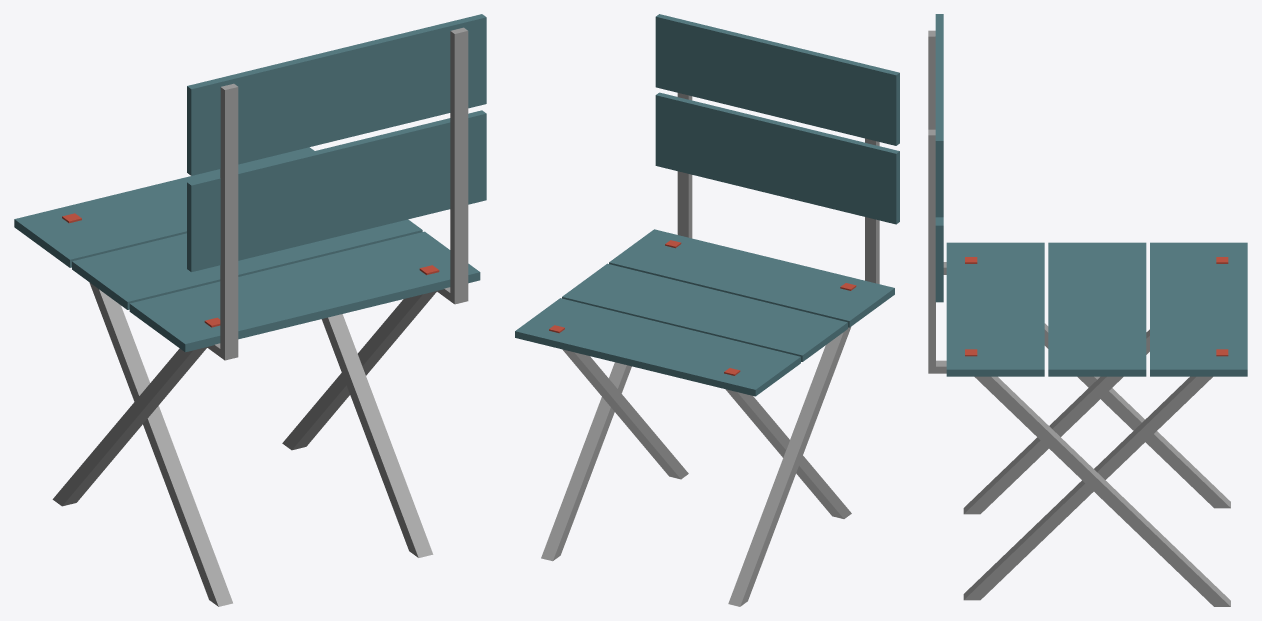
Rendered from SM_Chair_01.fbx.
3 views of the same model, side by side, from view 1: azimuth 30°, elevation 25°; view 2: azimuth 150°, elevation 25°; view 3: azimuth 270°, elevation 25° (orthographic). The views are drawn at different scales.
Parts seen in each view (by area): view 1: SM_Chair_01; view 2: SM_Chair_01; view 3: SM_Chair_01.
Part boxes in pixels (<box>): SM_Chair_01: <box>14,14,486,606</box>; SM_Chair_01: <box>515,14,899,606</box>; SM_Chair_01: <box>928,14,1247,606</box>.
Bounding box in the file's own units: 40.03 × 69.95 × 42.6.
